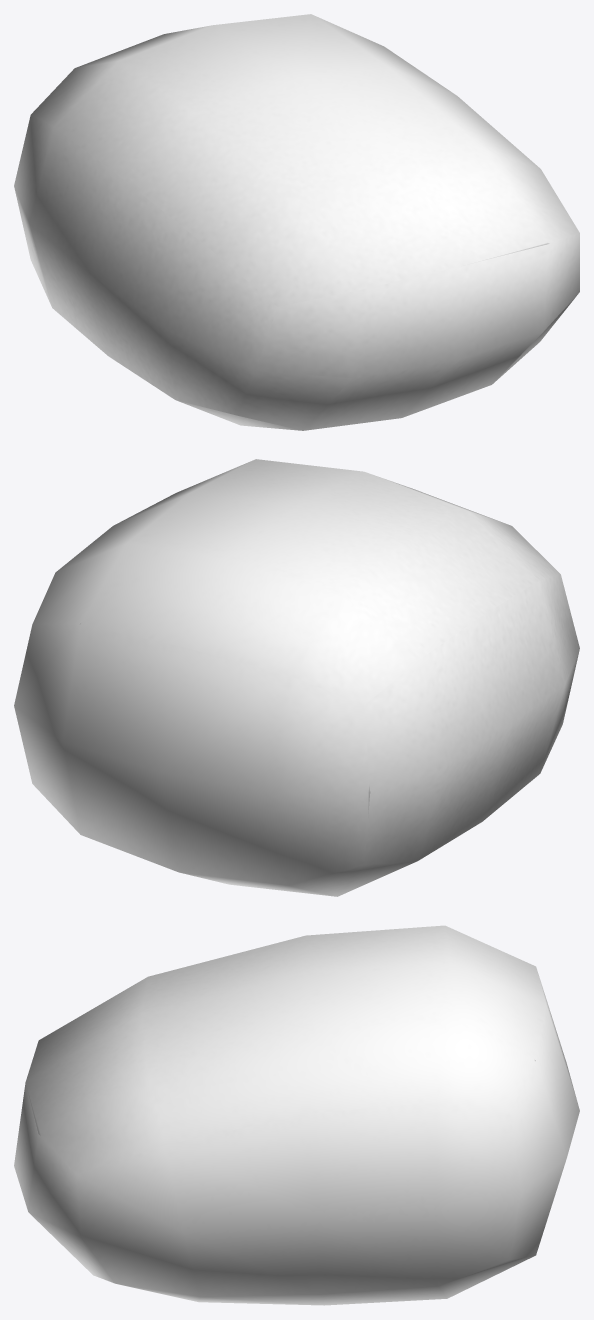
The model's file is rock_boulder_c_00.obj.
3 views of the same model, one above another, from view 1: azimuth 30°, elevation 25°; view 2: azimuth 150°, elevation 25°; view 3: azimuth 270°, elevation 25° (orthographic). The views are drawn at different scales.
Bounding box in the file's own units: 1.66 × 1.21 × 2.03.
